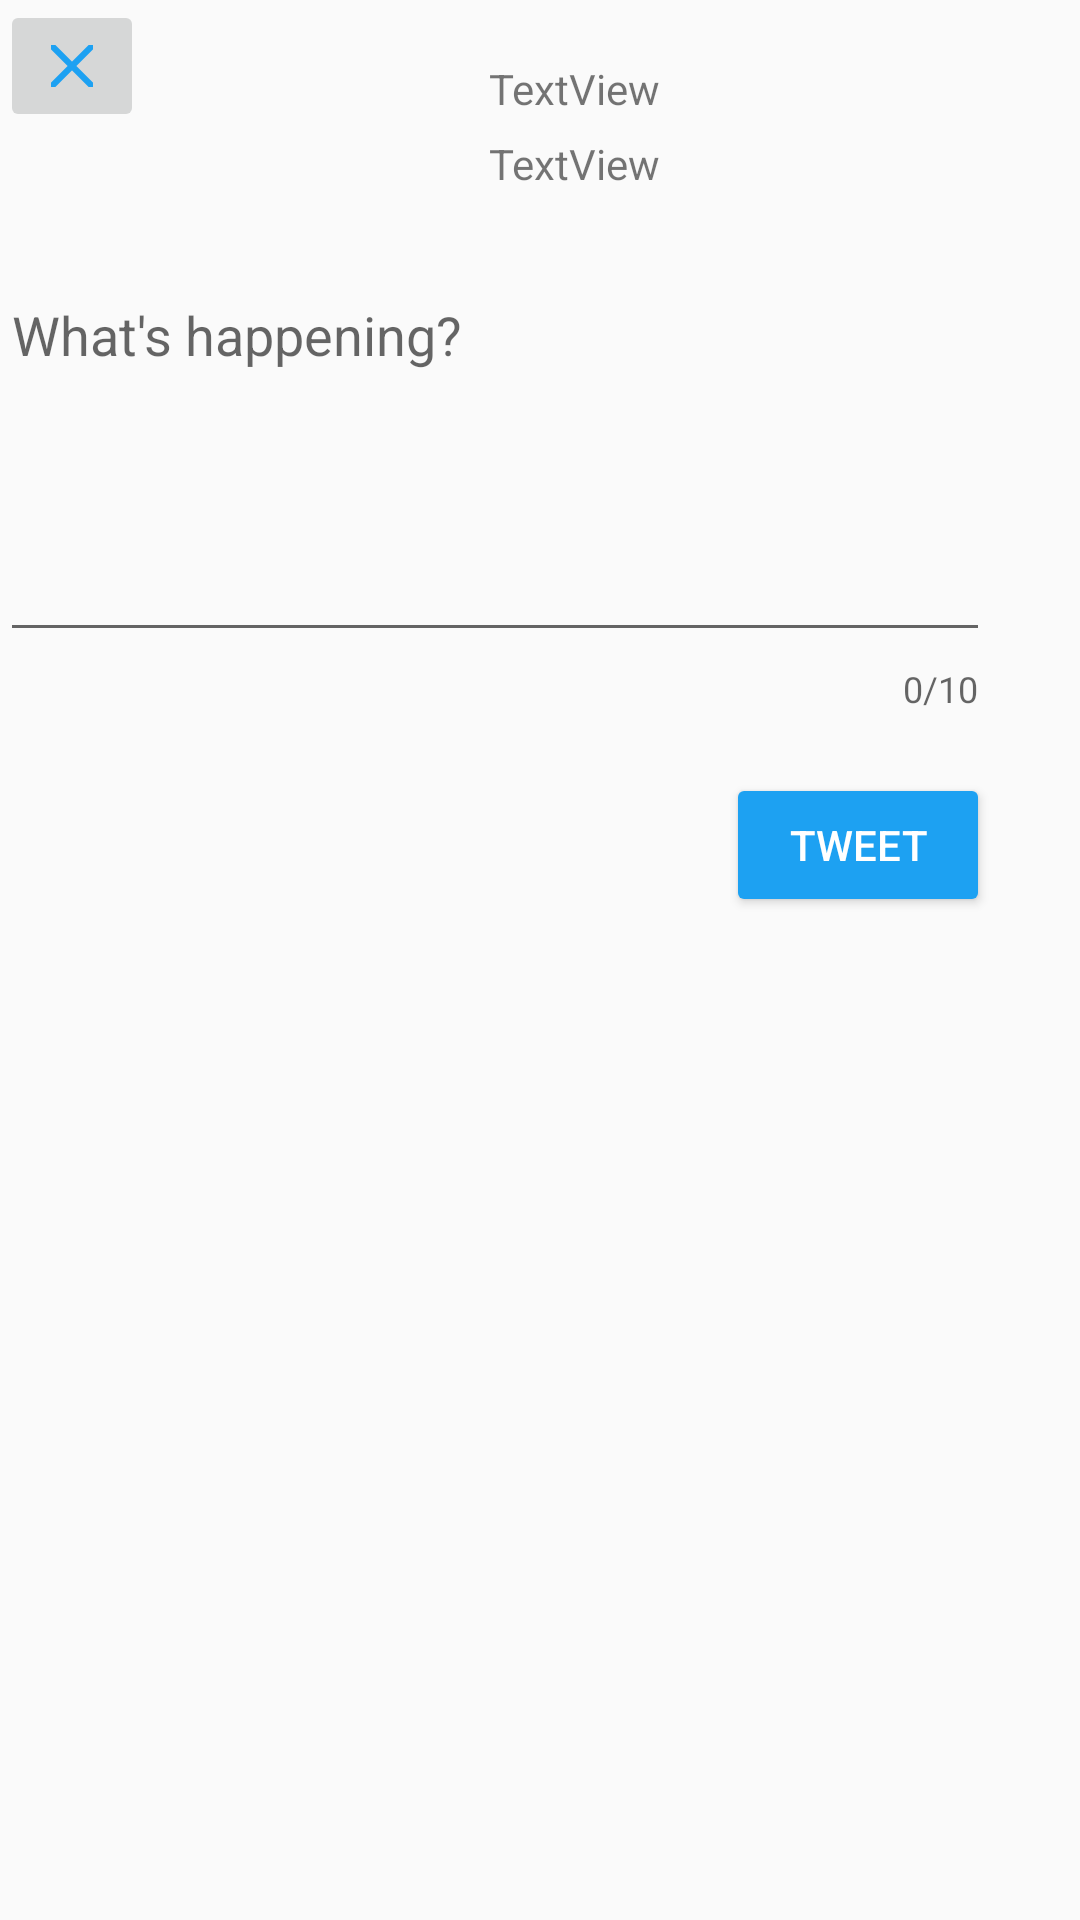

Screen size 1080×1920. Icon name, then its center in pixels as (x=x, y=y):
close: (x=72, y=66)
